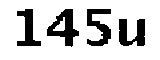1: (11, 5, 42, 50)
4: (44, 6, 80, 51)
5: (83, 4, 117, 48)
u: (117, 14, 153, 53)
